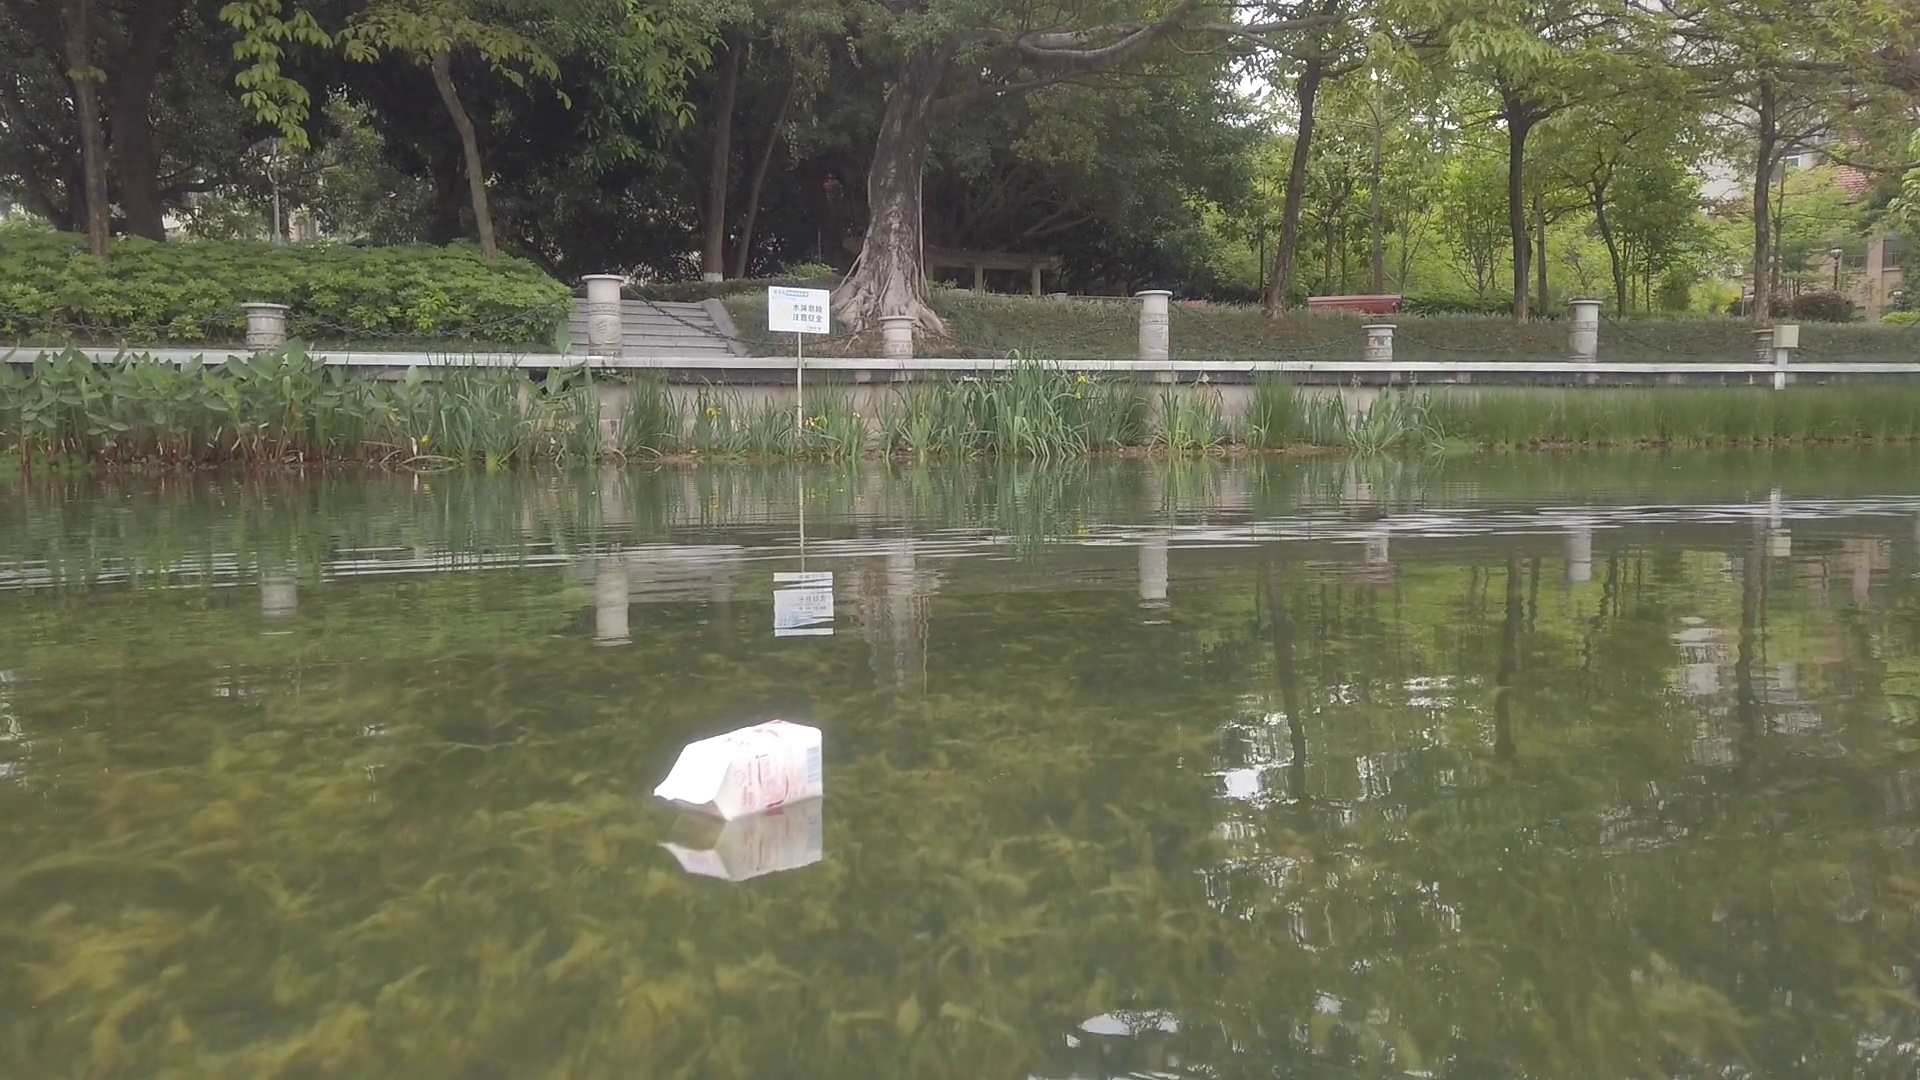carton: (658, 711, 829, 824)
